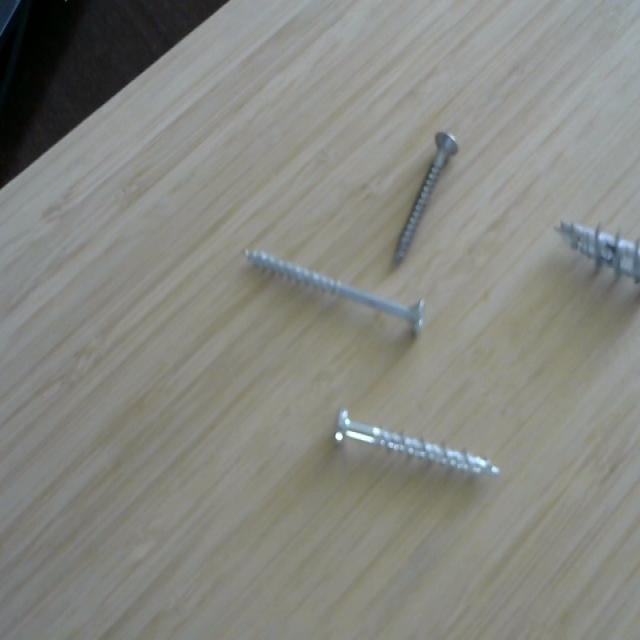Black screw: (383, 120, 469, 272)
Long screw: (237, 236, 432, 348)
Medium screw: (325, 396, 505, 484)
Short screw: (546, 215, 639, 298)
